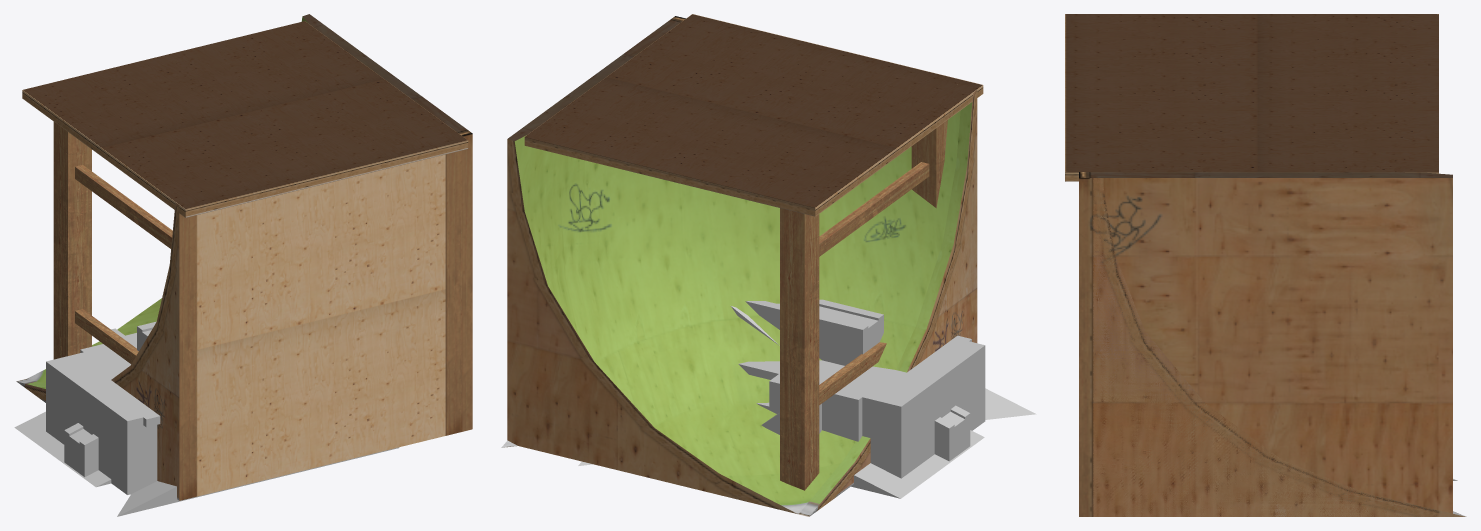
The model's file is skatepark.FBX.
3 renders of one model, left to right at view 1: azimuth 30°, elevation 25°; view 2: azimuth 150°, elevation 25°; view 3: azimuth 270°, elevation 25°, orthographic. The views are drawn at different scales.
Parts seen in each view (by area): view 1: bowl_straight, bowl_platform, stairs_l, bowl_corner1, corner_l, rail_l, kicker_; view 2: bowl_corner1, bowl_platform, stairs_l, bowl_straight, rail_straight, kicker_, stairs_m, rail_l, corner_l, platform_b; view 3: bowl_corner1, bowl_platform, bowl_corner2.
Boxes of the visible parts, left/top/right/bottom form: bowl_straight: left=16, top=150, right=462, bottom=500; bowl_platform: left=22, top=21, right=468, bottom=363; stairs_l: left=46, top=339, right=157, bottom=494; bowl_corner1: left=27, top=14, right=472, bottom=431; corner_l: left=117, top=447, right=399, bottom=516; rail_l: left=64, top=423, right=98, bottom=477; kicker_: left=14, top=411, right=111, bottom=487; bowl_corner1: left=507, top=16, right=960, bottom=514; bowl_platform: left=524, top=14, right=983, bottom=490; stairs_l: left=819, top=337, right=985, bottom=478; bowl_straight: left=799, top=90, right=977, bottom=516; rail_straight: left=745, top=299, right=883, bottom=365; kicker_: left=851, top=430, right=984, bottom=498; stairs_m: left=822, top=391, right=862, bottom=441; rail_l: left=934, top=405, right=970, bottom=461; corner_l: left=578, top=388, right=1036, bottom=465; platform_b: left=738, top=335, right=971, bottom=379; bowl_corner1: left=1079, top=172, right=1452, bottom=516; bowl_platform: left=1065, top=14, right=1438, bottom=181; bowl_corner2: left=1093, top=178, right=1466, bottom=516.
Bounding box in the file's own units: 2.69 × 2.18 × 2.31.
